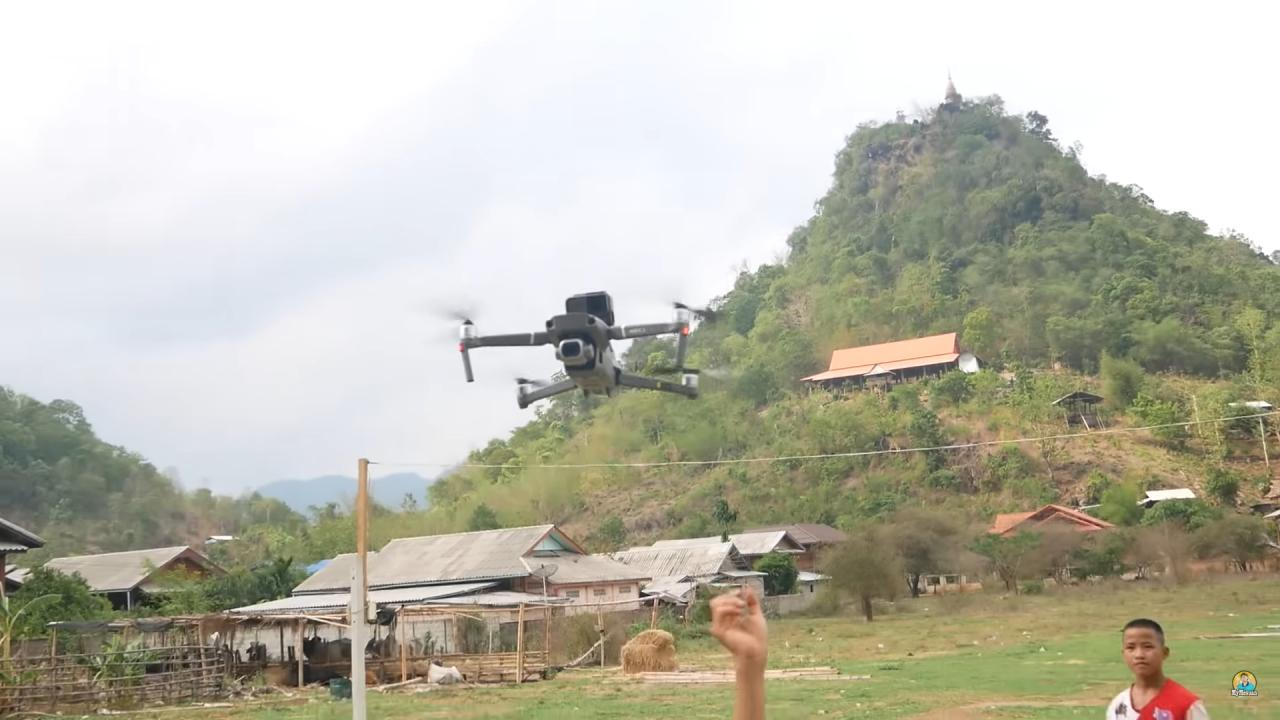Drone: (414, 276, 767, 424)
